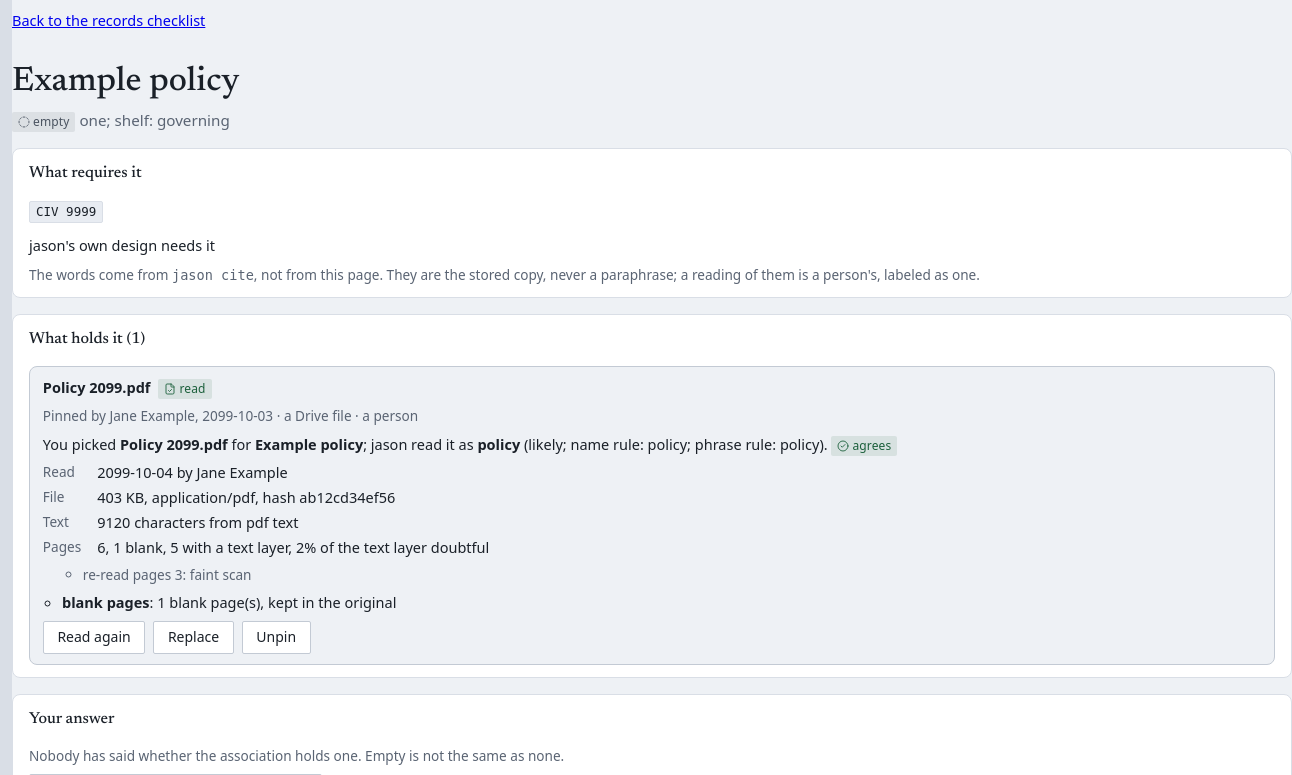
Test case: a slot › shows a refusal in the server's words and writes nothing
Click the button with aria-label "Unpin Policy 2099.pdf" at (276, 638), box [242,621,311,654]
(page scrolled)
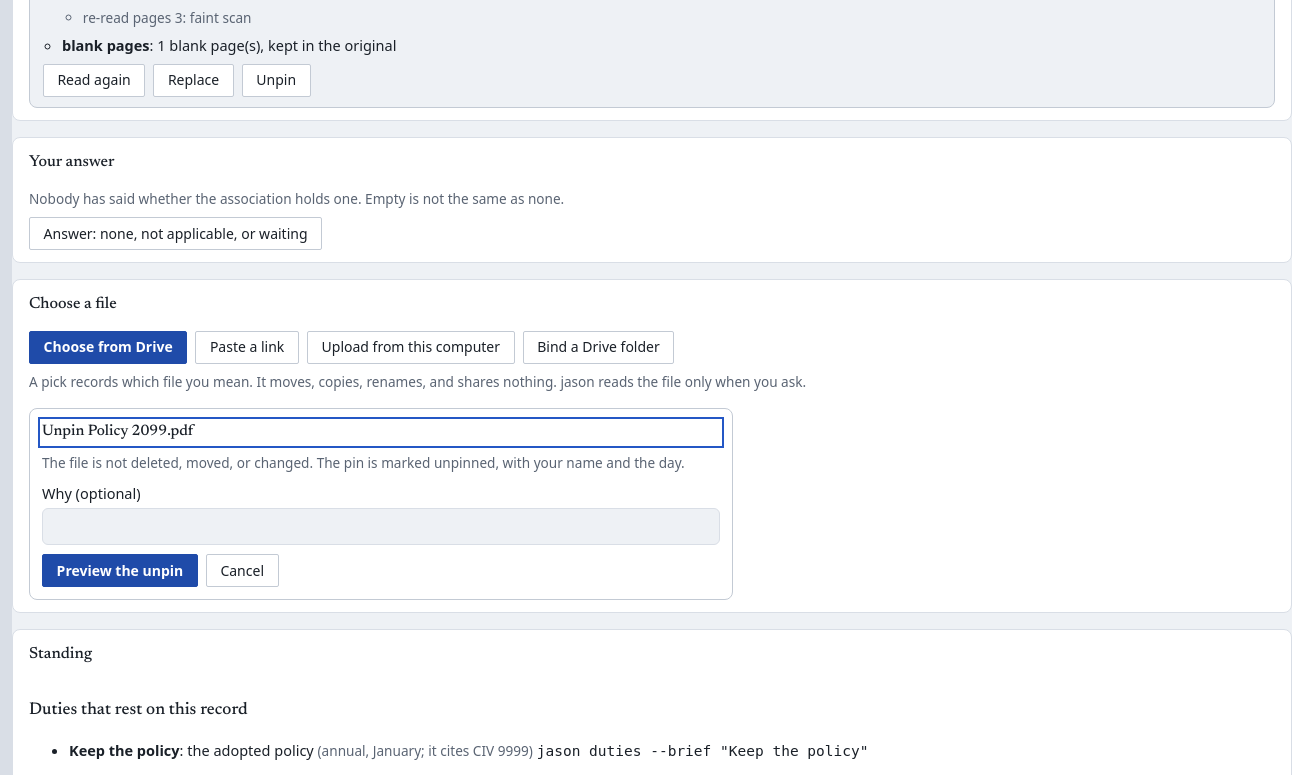
Click the button "Preview the unpin" at (120, 571), box [42,554,198,587]
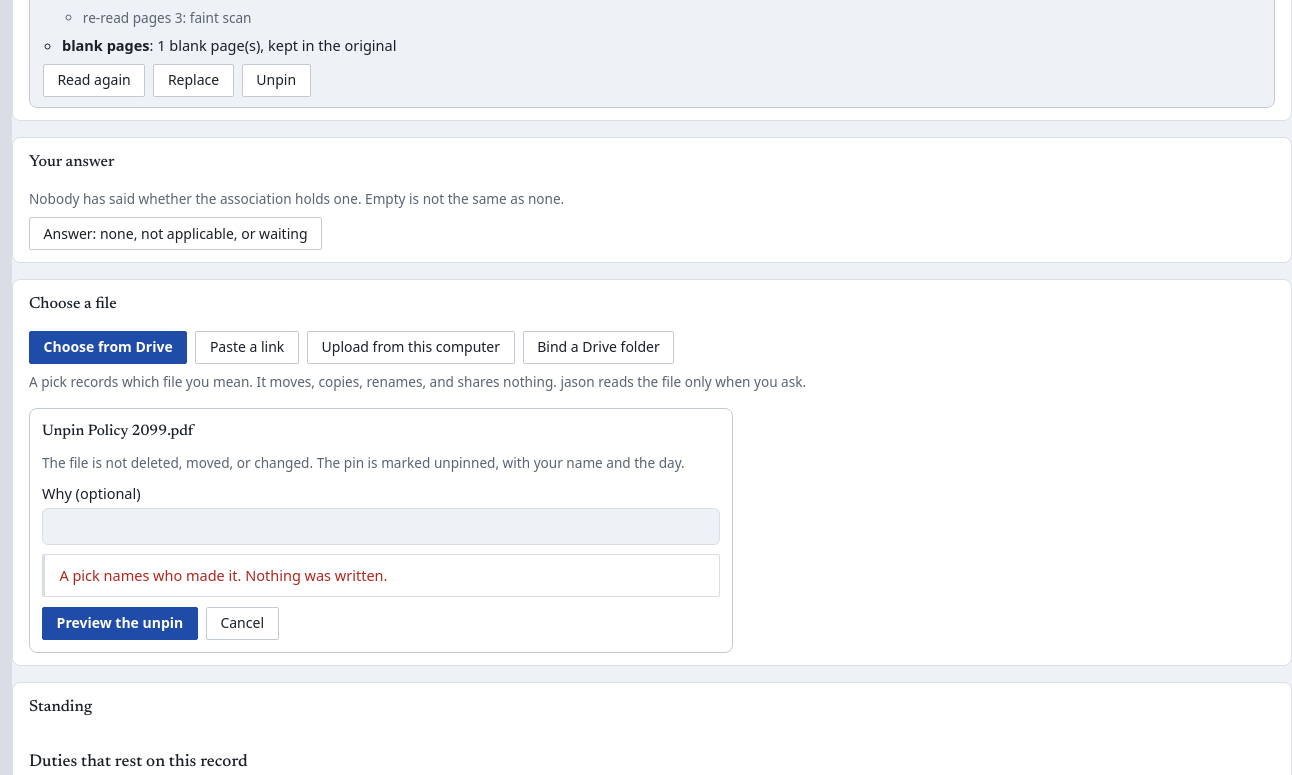
Expected: the message reads "A pick names who made it. Nothing was written.", [59,565,387,585]
